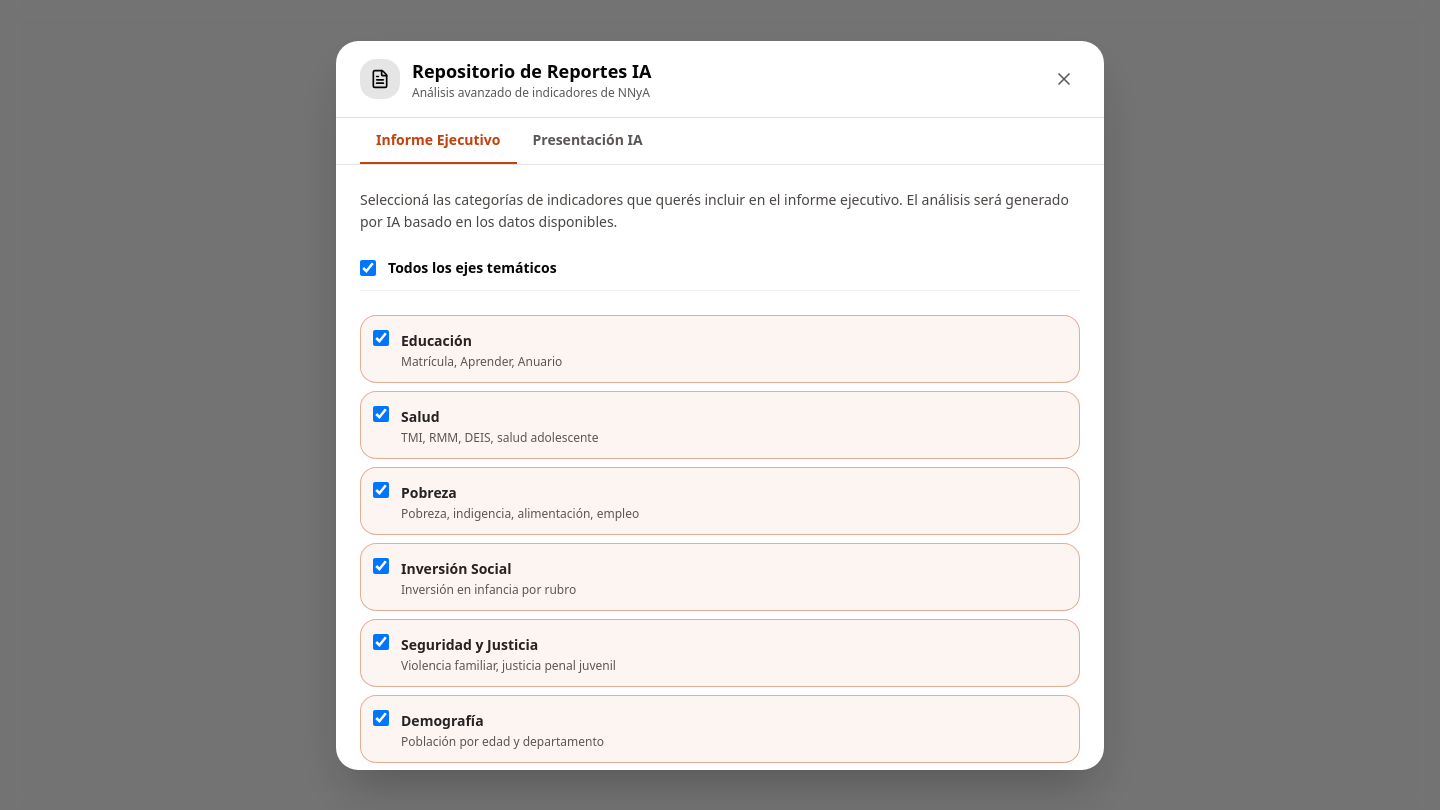
ReportModal › shows "Todos los ejes temáticos" checkbox that toggles all
Click the checkbox labelled "Todos los ejes temáticos" at (368, 268), box [360, 260, 376, 276]
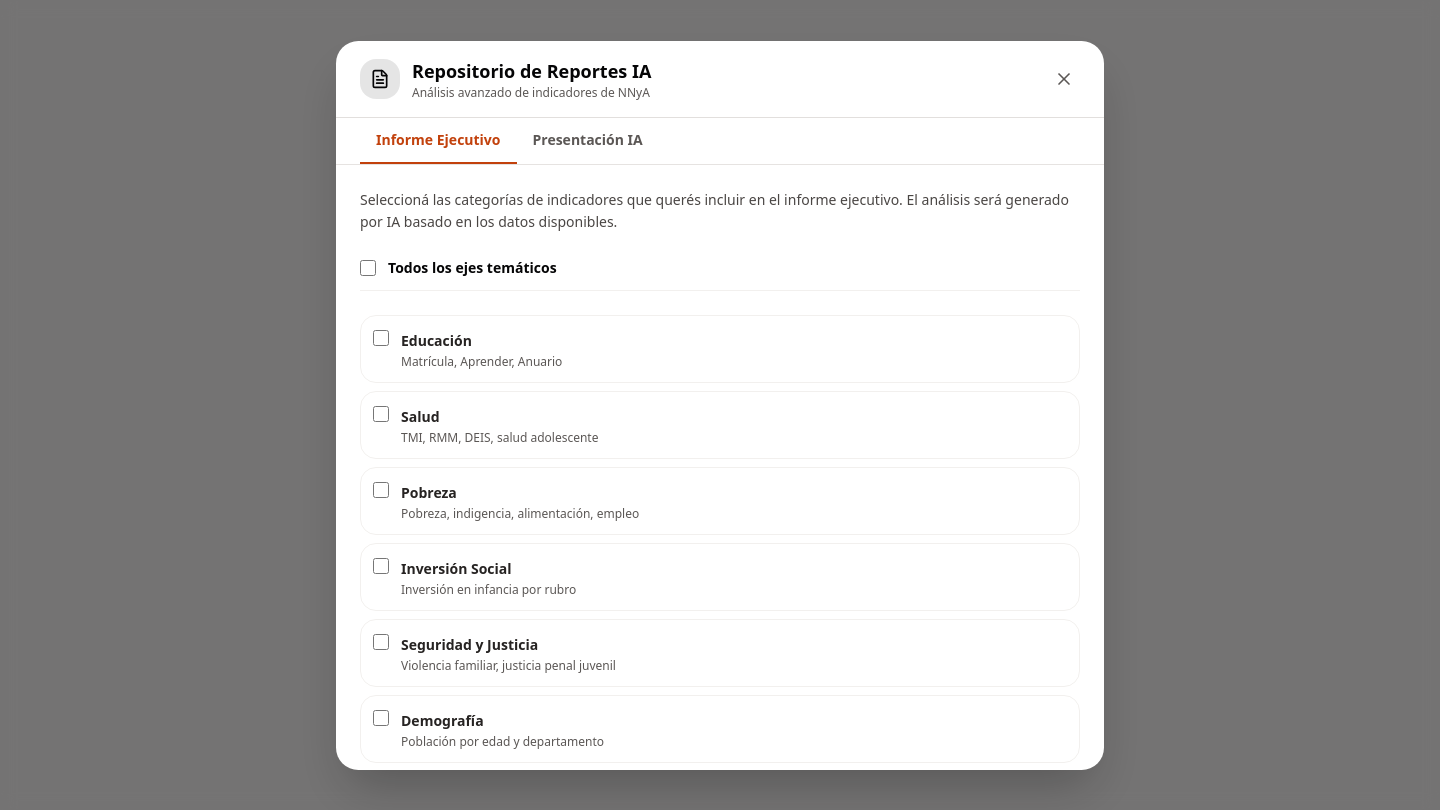
Result: the checkbox labelled "Todos los ejes temáticos" is not checked at [360, 260, 376, 276]
Result: the checkbox labelled "Educación Matrícula, Aprender, Anuario" is not checked at [373, 330, 389, 346]
Result: the checkbox labelled "Salud TMI, RMM, DEIS, salud adolescente" is not checked at [373, 406, 389, 422]
